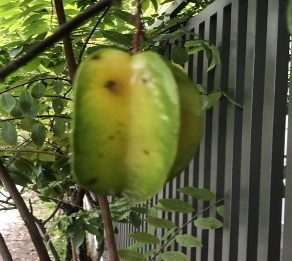Khe: (68, 45, 203, 208)
